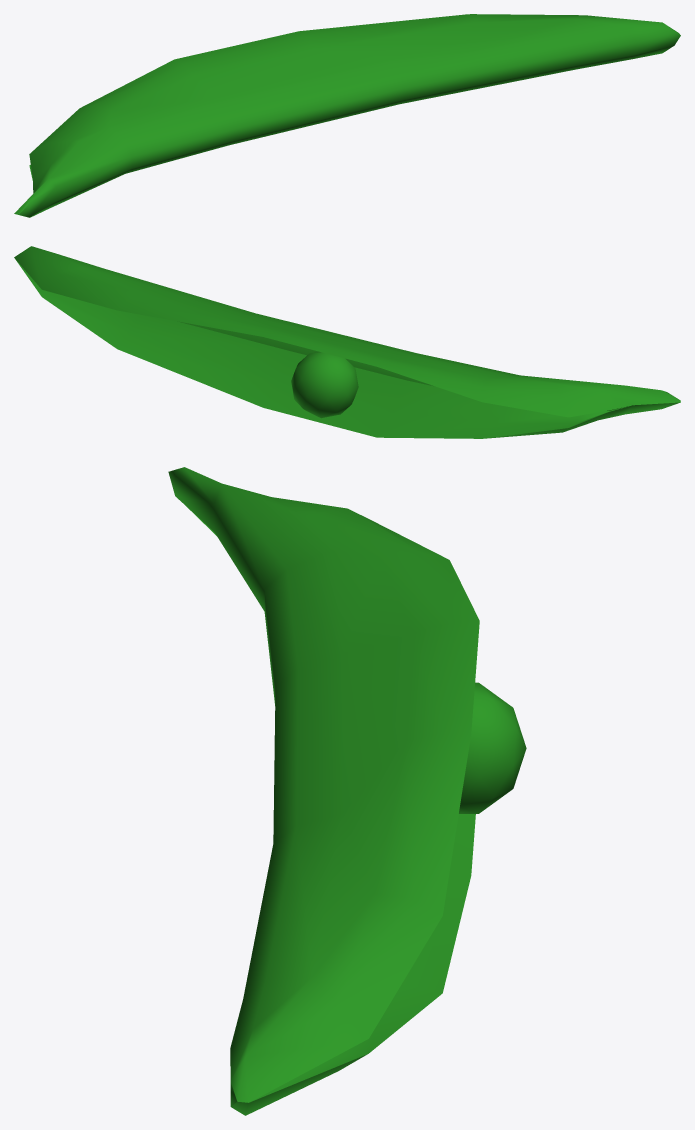
The model's file is peapod.glb.
3 renders of one model, top to bottom at view 1: azimuth 30°, elevation 25°; view 2: azimuth 150°, elevation 25°; view 3: azimuth 270°, elevation 25°, orthographic. The views are drawn at different scales.
Parts seen in each view (by area): view 1: Plane; view 2: Plane, Plane.001; view 3: Plane, Plane.001.
Part boxes in pixels (<box>): Plane: <box>14,14,680,217</box>; Plane: <box>14,246,680,438</box>; Plane.001: <box>291,351,358,418</box>; Plane: <box>168,467,479,1115</box>; Plane.001: <box>459,682,526,813</box>.
Size of the model in its own units: 11.55 by 1.21 by 2.76.
